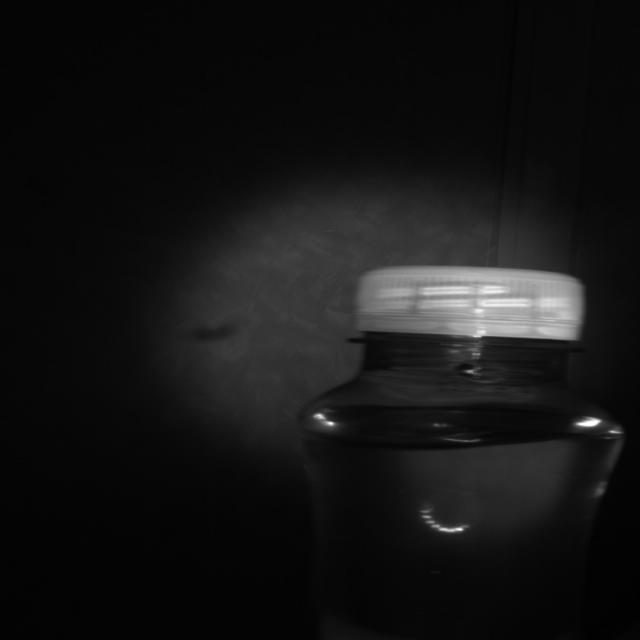Good: (353, 266, 582, 344)
